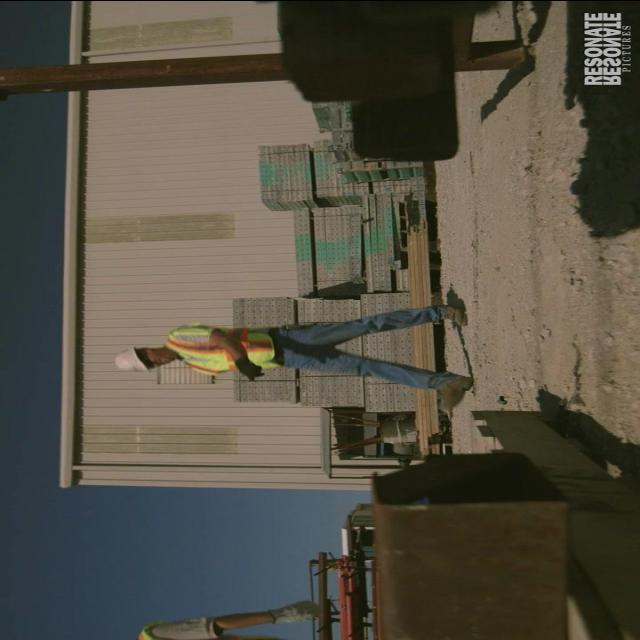helmet: (104, 342, 149, 376)
jacket: (162, 320, 288, 378)
